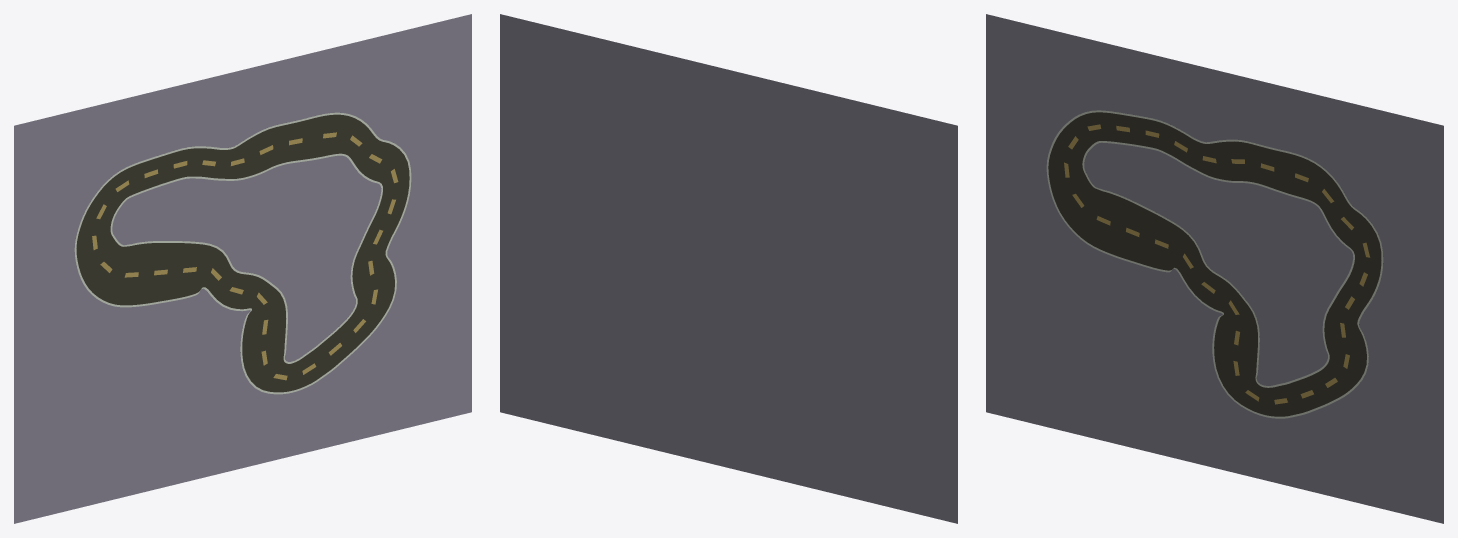
Rendered from track.obj.
3 renders of one model, left to right at view 1: azimuth 30°, elevation 25°; view 2: azimuth 150°, elevation 25°; view 3: azimuth 330°, elevation 25°, orthographic.
Bounding box in the file's own units: 10.14 × 8.43 × 0.0025.
4 materials, 4 textured.
